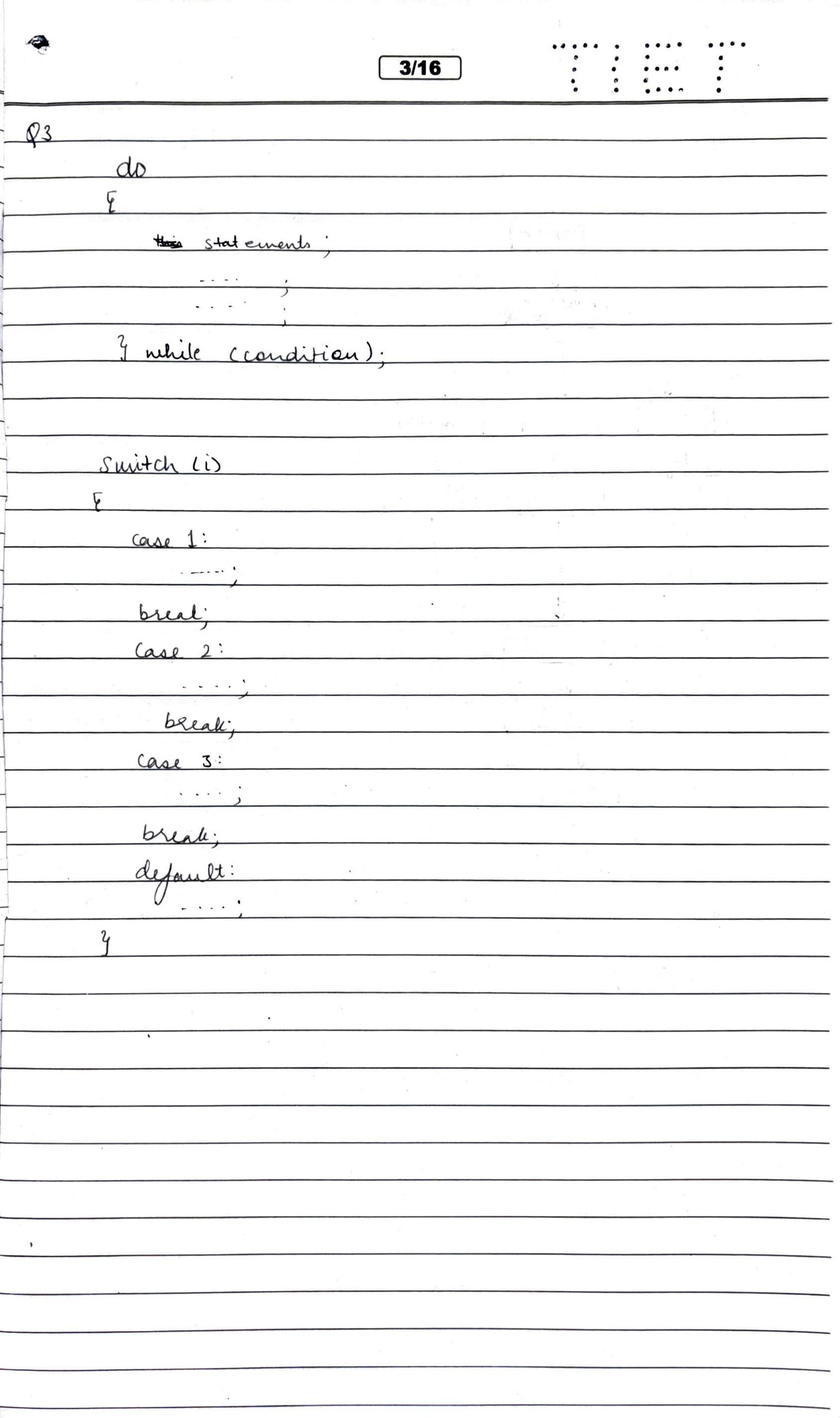cuttings: (153, 233, 183, 249)
